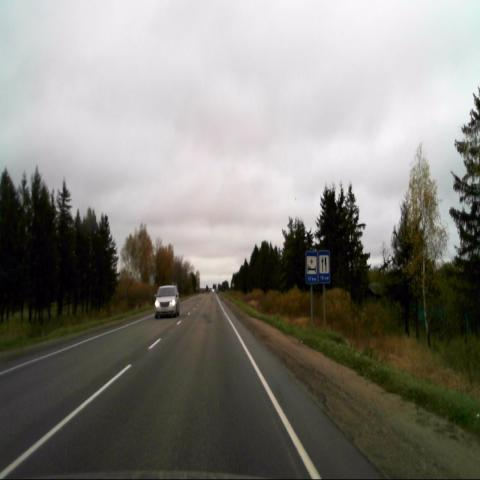7_2: (305, 250, 318, 284)
7_7: (318, 250, 330, 283)
